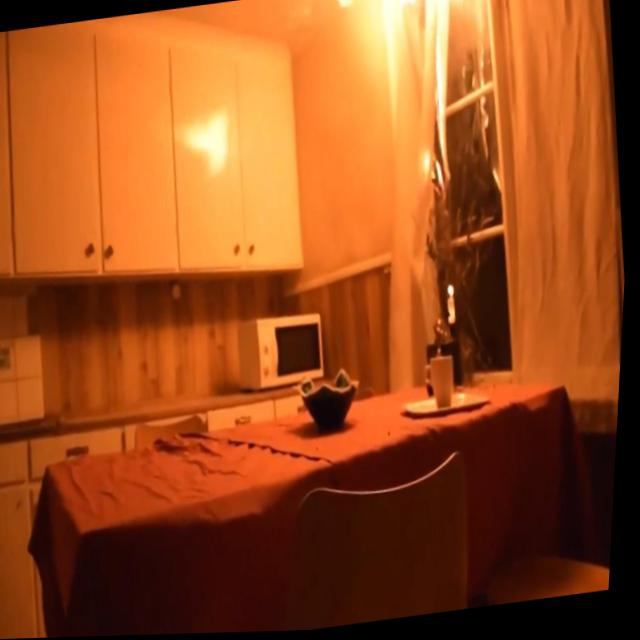fire: (309, 0, 510, 150), (448, 278, 459, 302)
